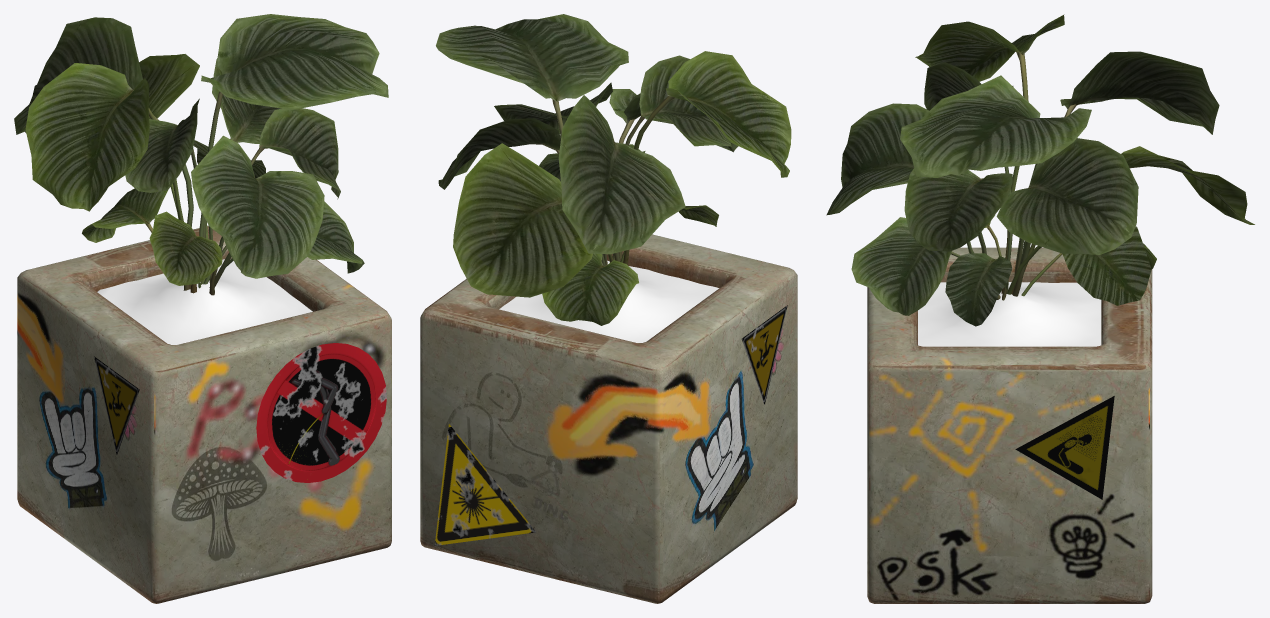
Rendered from graffiti-plant.glb.
3 views of the same model, side by side, from view 1: azimuth 30°, elevation 25°; view 2: azimuth 150°, elevation 25°; view 3: azimuth 270°, elevation 25° (orthographic). The views are drawn at different scales.
Parts seen in each view (by area): view 1: Plant Box.002, calathea Leaves.001, Circle.001, Soil.001, Plane.006; view 2: Plant Box.002, calathea Leaves.001, Plane.005, Soil.001, Plane.006; view 3: Plant Box.002, calathea Leaves.001, Soil.001, Plane.004.
Part boxes in pixels (x1,y1,x2,y2): Plant Box.002: [17, 225, 391, 603]; calathea Leaves.001: [14, 14, 388, 295]; Circle.001: [256, 343, 386, 482]; Soil.001: [97, 259, 312, 344]; Plane.006: [94, 356, 139, 455]; Plant Box.002: [420, 234, 797, 603]; calathea Leaves.001: [436, 14, 791, 325]; Plane.005: [434, 424, 535, 545]; Soil.001: [499, 260, 719, 342]; Plane.006: [741, 305, 787, 404]; Plant Box.002: [867, 247, 1152, 603]; calathea Leaves.001: [826, 14, 1254, 326]; Soil.001: [918, 282, 1101, 346]; Plane.004: [1015, 396, 1114, 499].
Bounding box in the file's own units: 3.11 × 4.19 × 3.34.
7 materials, 6 textured.
